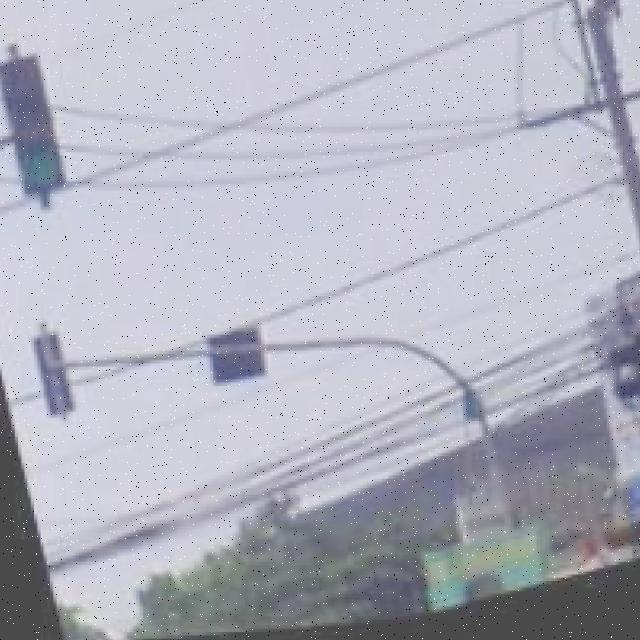Lampu Hijau: (0, 54, 70, 205), (622, 324, 640, 479)
